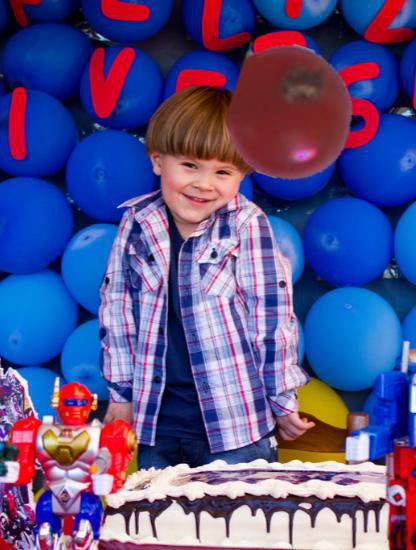Redcurrant: (224, 46, 359, 181)
